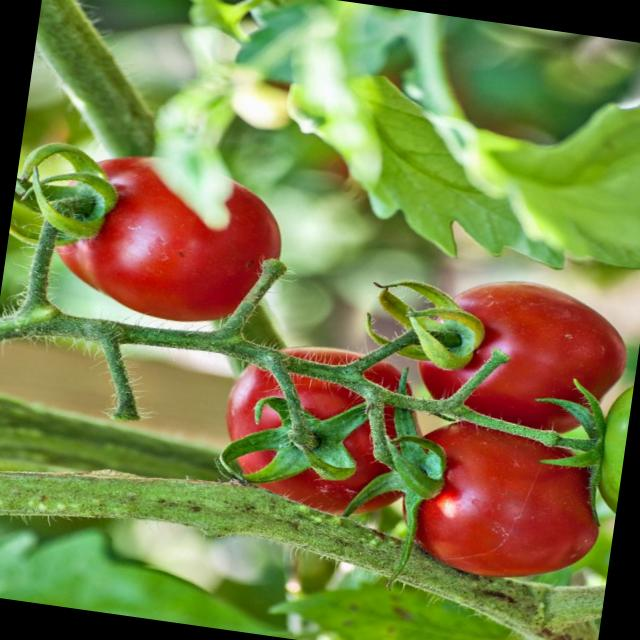tomato: (17, 144, 284, 336), (386, 412, 601, 600), (407, 269, 632, 443), (215, 331, 402, 523)
